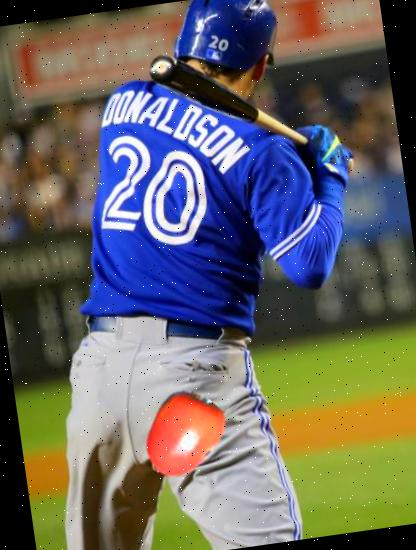Kaki: (131, 383, 233, 485)
